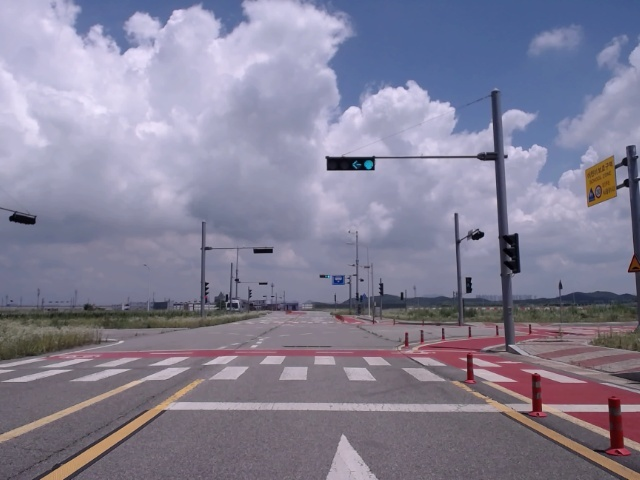all_green_4: (325, 158, 375, 174)
